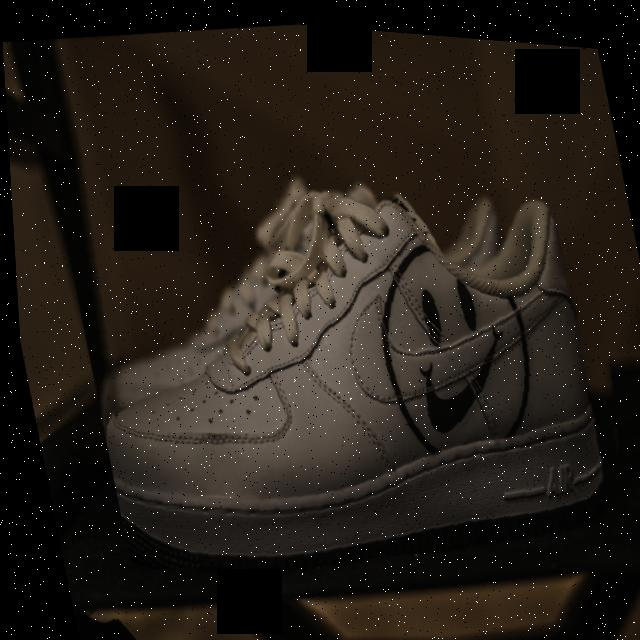shoe: (46, 86, 640, 603)
